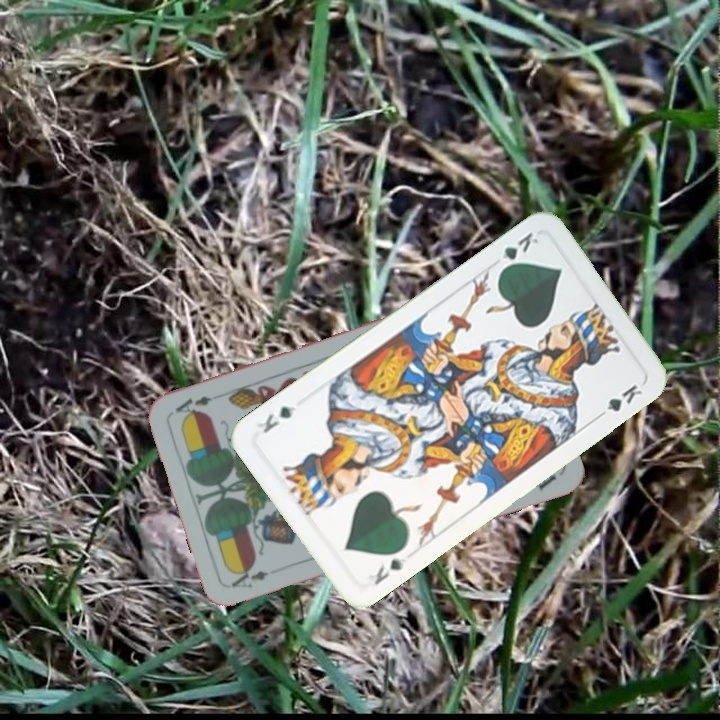EA: (227, 561, 272, 591)
GK: (495, 228, 541, 275), (370, 552, 409, 588)
